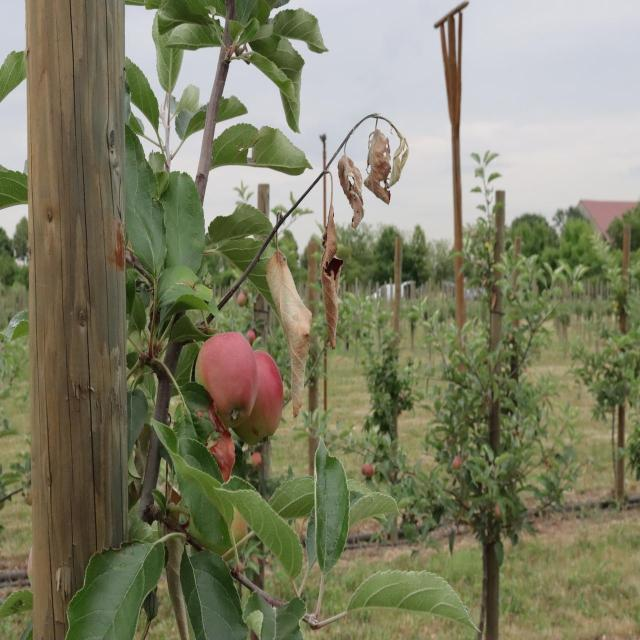-FireBlight-: (266, 107, 414, 420)
